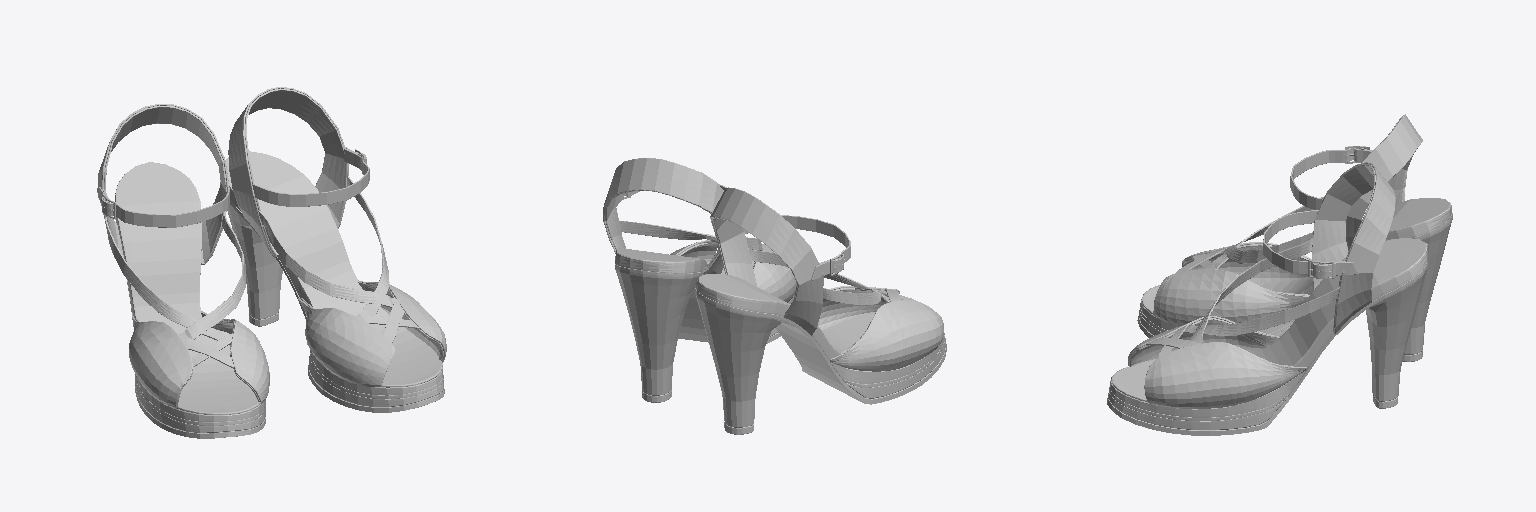
3 views of the same model, side by side, from view 1: azimuth 30°, elevation 25°; view 2: azimuth 150°, elevation 25°; view 3: azimuth 270°, elevation 25° (orthographic).
Parts seen in each view (by area): view 1: AM_102_054_004, AM_102_054_07; view 2: AM_102_054_07, AM_102_054_004; view 3: AM_102_054_004, AM_102_054_07.
Part boxes in pixels (bbox=[...]): AM_102_054_004: bbox=[220, 87, 446, 412]; AM_102_054_07: bbox=[97, 104, 269, 438]; AM_102_054_07: bbox=[695, 187, 946, 434]; AM_102_054_004: bbox=[603, 158, 796, 402]; AM_102_054_004: bbox=[1107, 162, 1427, 435]; AM_102_054_07: bbox=[1137, 114, 1452, 361].
Size of the model in its own units: 60.34 by 49.66 by 66.25.